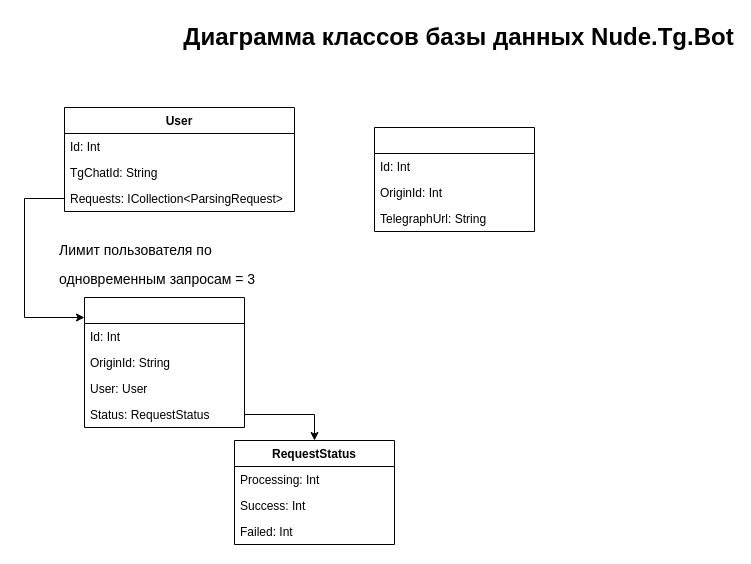
This 751x564 diagram has some shape labels left out. The shapes that lost their labels are listed below. From the top down, each one's box as (x1, y1, x2, y2) in pixels, then its label:
(374, 126, 534, 232): TelegraphManga
(84, 296, 244, 428): ParsingRequest
